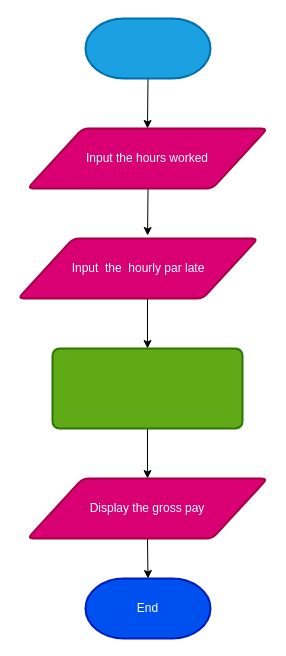
This 286x656 diagram has some shape labels left out. The centre of each missing label's shape, as x and y in pixels:
"Calculate gross pay as hours eorked multiplied by pay rate" goes at [147,388].
"start" goes at [147,48].
